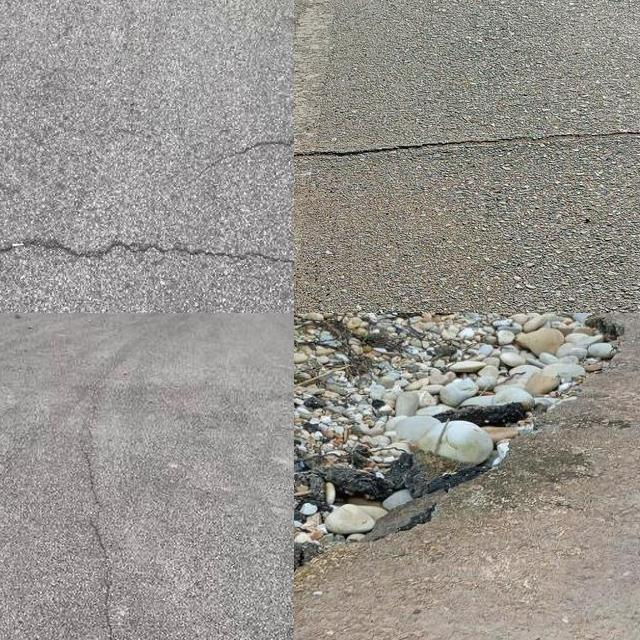Melintang: (294, 114, 640, 179), (0, 232, 294, 275), (210, 120, 294, 172)
Memanjang: (69, 349, 152, 640)
Pinggir: (294, 313, 640, 639)
